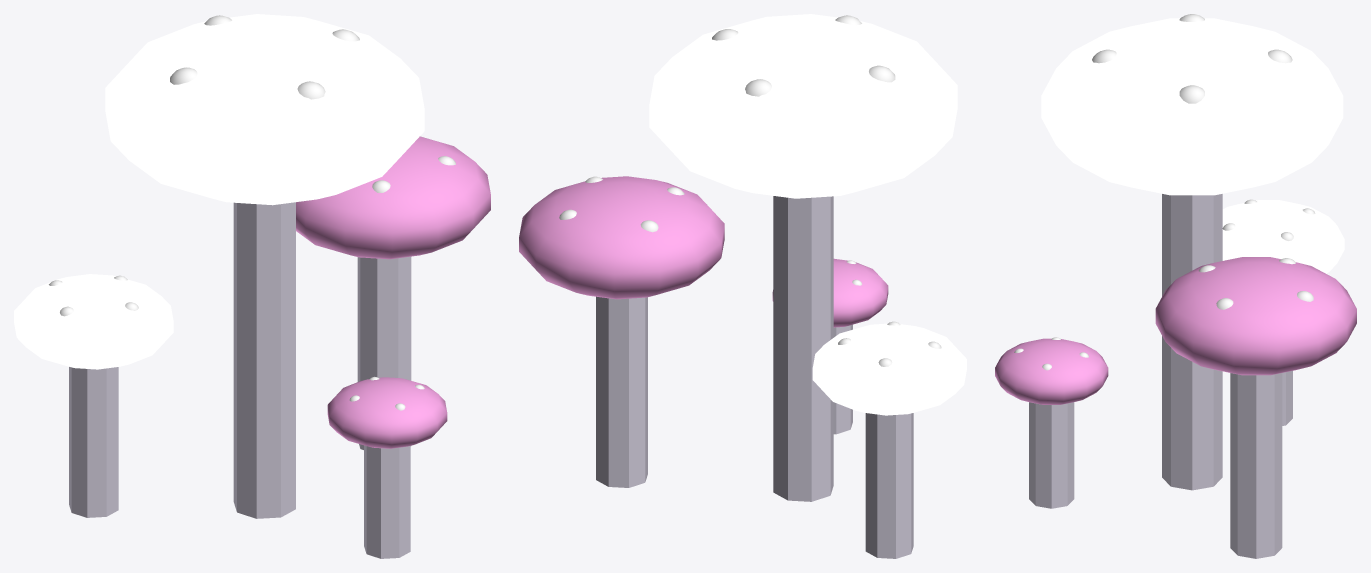
Rendered from alien__shrooms.fbx.
3 views of the same model, side by side, from view 1: azimuth 30°, elevation 25°; view 2: azimuth 150°, elevation 25°; view 3: azimuth 270°, elevation 25° (orthographic). The views are drawn at different scales.
Parts seen in each view (by area): view 1: alien__shrooms; view 2: alien__shrooms; view 3: alien__shrooms.
Boxes of the visible parts, box(x1,y1,x2,y2) form: alien__shrooms: box(14, 14, 490, 558); alien__shrooms: box(519, 14, 966, 558); alien__shrooms: box(995, 14, 1356, 558).
Bounding box in the file's own units: 3.74 × 3.74 × 2.83.
